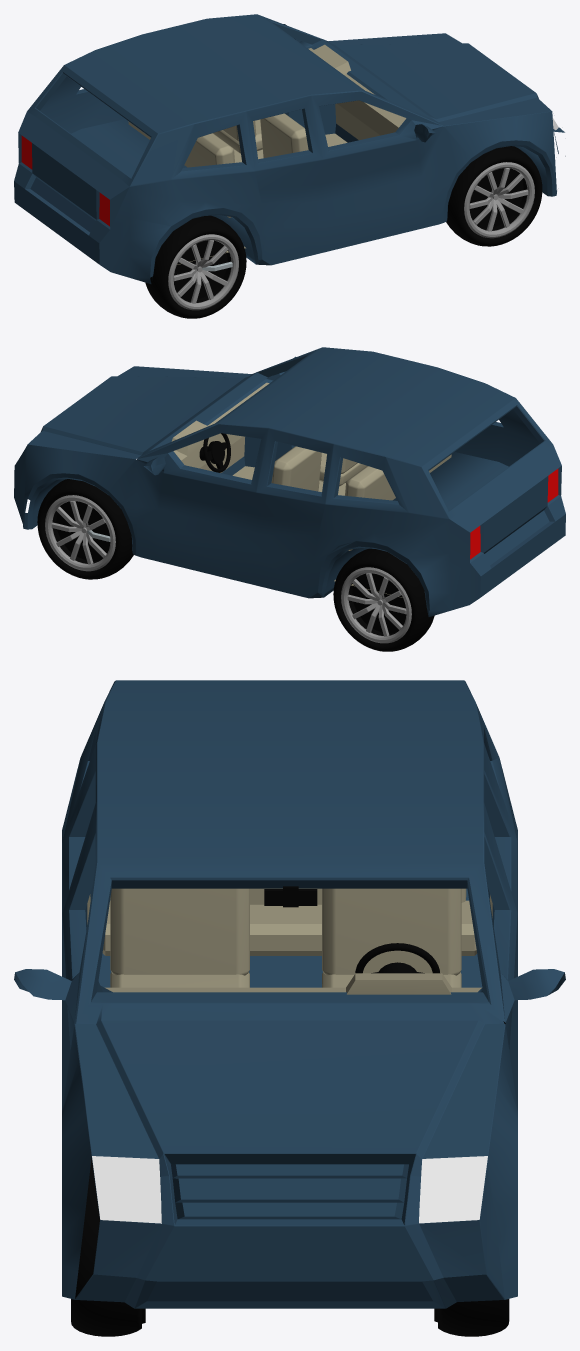
Rendered from car.gltf.
3 views of the same model, one above another, from view 1: azimuth 30°, elevation 25°; view 2: azimuth 150°, elevation 25°; view 3: azimuth 270°, elevation 25° (orthographic). The views are drawn at different scales.
Parts seen in each view (by area): view 1: group47 pasted__polySurface3, group47 pTorus10, group47 pTorus6, group47 pCube23, group47 pasted__pasted__pasted__pCube23, group47 pTorus4, group47 pTorus7, group47 pCylinder11, group47 pasted__pCube23, group47 pCylinder7, group47 pPlane7, group47 pasted__pasted__pasted__pCube24; view 2: group47 pasted__polySurface3, group47 pTorus8, group47 pTorus2, group47 pasted__pasted__pCube23, group47 pTorus5, group47 pTorus9, group47 pasted__pCube23, group47 pCylinder9, pCylinder5 group47, group47 pCube23, group47 pPlane7, group47 pasted__pasted__pasted__pasted__pCube23; view 3: group47 pasted__polySurface3, group47 pasted__pasted__pasted__pCube23, group47 pasted__pasted__pCube23, group47 pasted__pasted__pCube25, group47 pasted__polySurface3 pPlane5 pPlane4, group47 pasted__polySurface3 pPlane5, group47 pTorus6, group47 pCube23, group47 pTorus2, group47 pasted__pasted__pasted__pasted__pCube23, group47 pTorus3.
Boxes of the visible parts, <box> form: group47 pasted__polySurface3: <box>14,14,565,283</box>; group47 pTorus10: <box>145,215,246,318</box>; group47 pTorus6: <box>446,146,542,246</box>; group47 pCube23: <box>308,44,406,135</box>; group47 pasted__pasted__pasted__pCube23: <box>260,113,308,157</box>; group47 pTorus4: <box>464,162,534,238</box>; group47 pTorus7: <box>168,234,238,310</box>; group47 pCylinder11: <box>174,240,227,300</box>; group47 pasted__pCube23: <box>128,121,234,167</box>; group47 pCylinder7: <box>469,168,523,228</box>; group47 pPlane7: <box>177,103,379,264</box>; group47 pasted__pasted__pasted__pCube24: <box>213,119,262,153</box>; group47 pasted__polySurface3: <box>14,347,565,616</box>; group47 pTorus8: <box>333,548,434,651</box>; group47 pTorus2: <box>37,479,133,579</box>; group47 pasted__pasted__pCube23: <box>271,446,321,491</box>; group47 pTorus5: <box>45,495,115,571</box>; group47 pTorus9: <box>341,567,411,643</box>; group47 pasted__pCube23: <box>345,454,451,500</box>; group47 pCylinder9: <box>352,573,406,633</box>; pCylinder5 group47: <box>56,501,110,561</box>; group47 pCube23: <box>171,382,269,468</box>; group47 pPlane7: <box>200,436,402,597</box>; group47 pasted__pasted__pasted__pasted__pCube23: <box>319,452,366,486</box>; group47 pasted__polySurface3: <box>14,680,565,1308</box>; group47 pasted__pasted__pasted__pCube23: <box>110,888,249,975</box>; group47 pasted__pasted__pCube23: <box>322,888,461,975</box>; group47 pasted__pasted__pCube25: <box>102,900,477,955</box>; group47 pasted__polySurface3 pPlane5 pPlane4: <box>92,1156,161,1223</box>; group47 pasted__polySurface3 pPlane5: <box>419,1156,487,1223</box>; group47 pTorus6: <box>71,1157,145,1336</box>; group47 pCube23: <box>105,973,481,994</box>; group47 pTorus2: <box>434,1299,509,1336</box>; group47 pasted__pasted__pasted__pasted__pCube23: <box>110,972,249,987</box>; group47 pTorus3: <box>355,943,439,973</box>.
Size of the model in its own units: 1.26 by 0.5037 by 0.7001.
